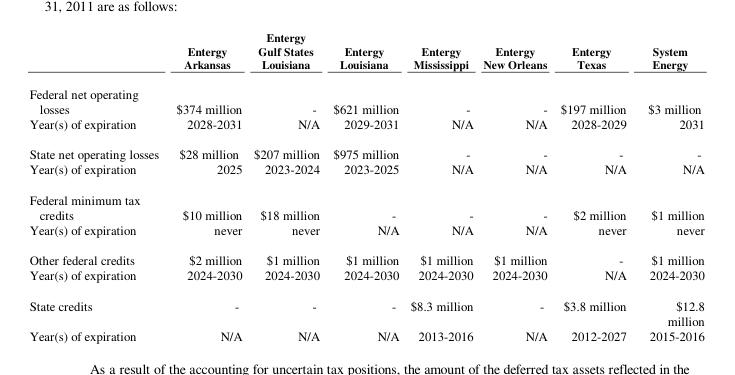table: (28, 29, 704, 343)
table column: (28, 29, 166, 343), (553, 29, 636, 343), (166, 29, 247, 343), (325, 29, 404, 343), (247, 29, 325, 343), (477, 29, 553, 343), (404, 29, 477, 343), (636, 29, 704, 343)
table column header: (28, 29, 704, 115)
table row: (28, 29, 704, 115), (28, 183, 704, 221), (28, 289, 704, 327), (28, 115, 704, 138), (28, 160, 704, 183), (28, 221, 704, 244), (28, 266, 704, 289), (28, 138, 704, 160), (28, 244, 704, 266), (28, 327, 704, 343)
